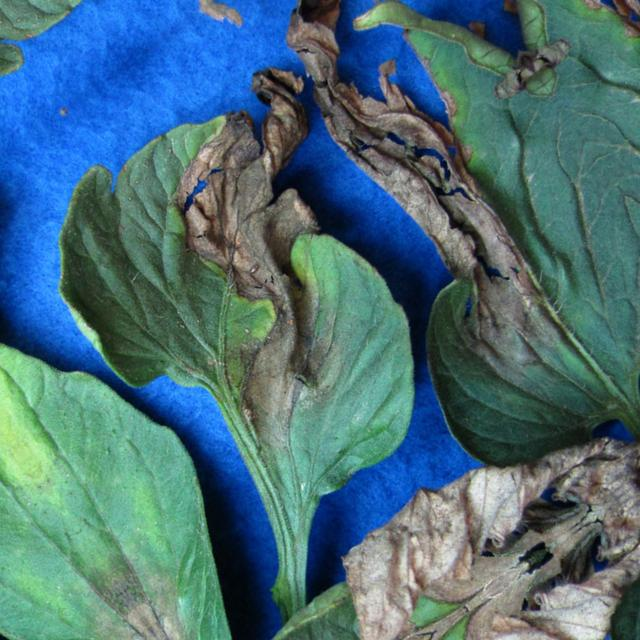Tomato leaf late blight: (0, 57, 499, 602), (189, 0, 640, 559), (0, 268, 356, 640), (175, 373, 640, 640), (0, 0, 307, 271)
